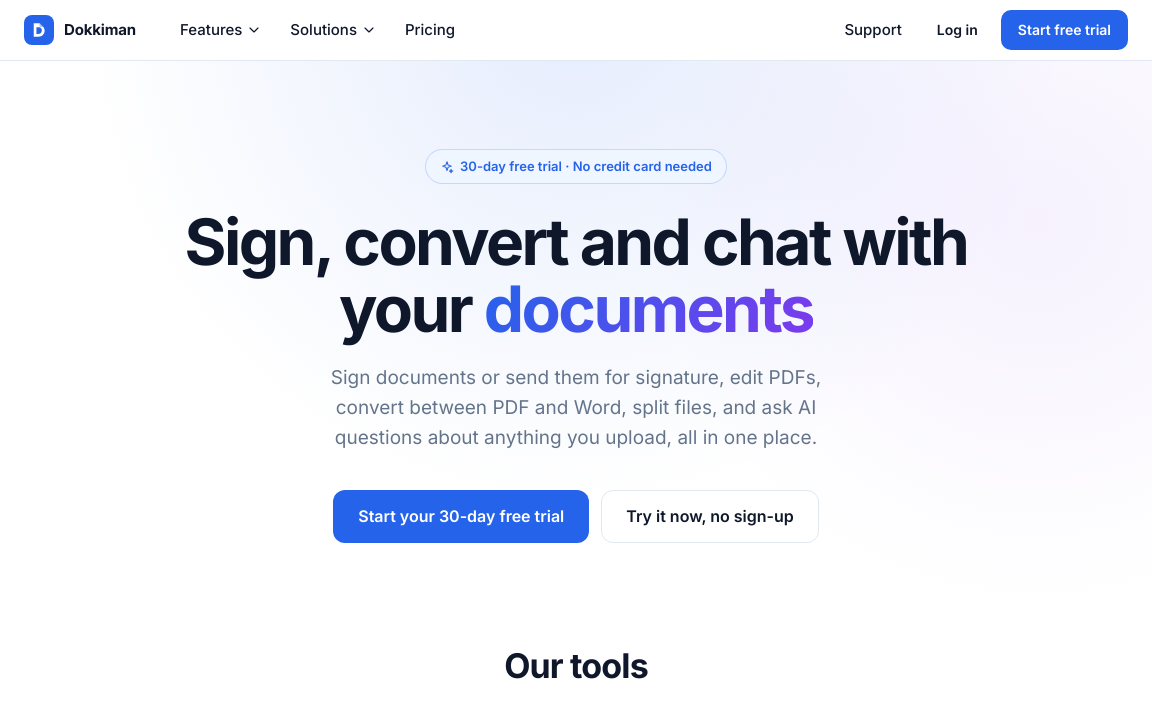
Test case: the Document Manager invites guests to create an account
Step 1. Click the button "Try it now, no sign-up" → (710, 516), box [601,490,819,543]
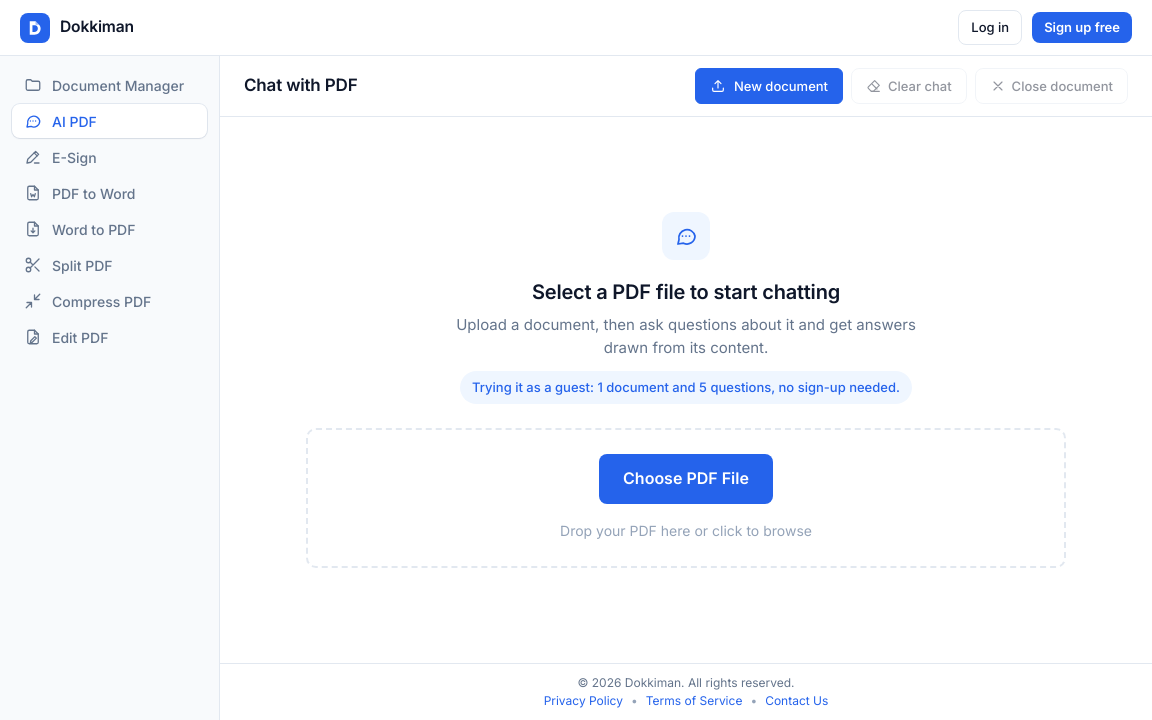
Step 2. Click the button "Document Manager" → (110, 85), box [12,68,207,102]
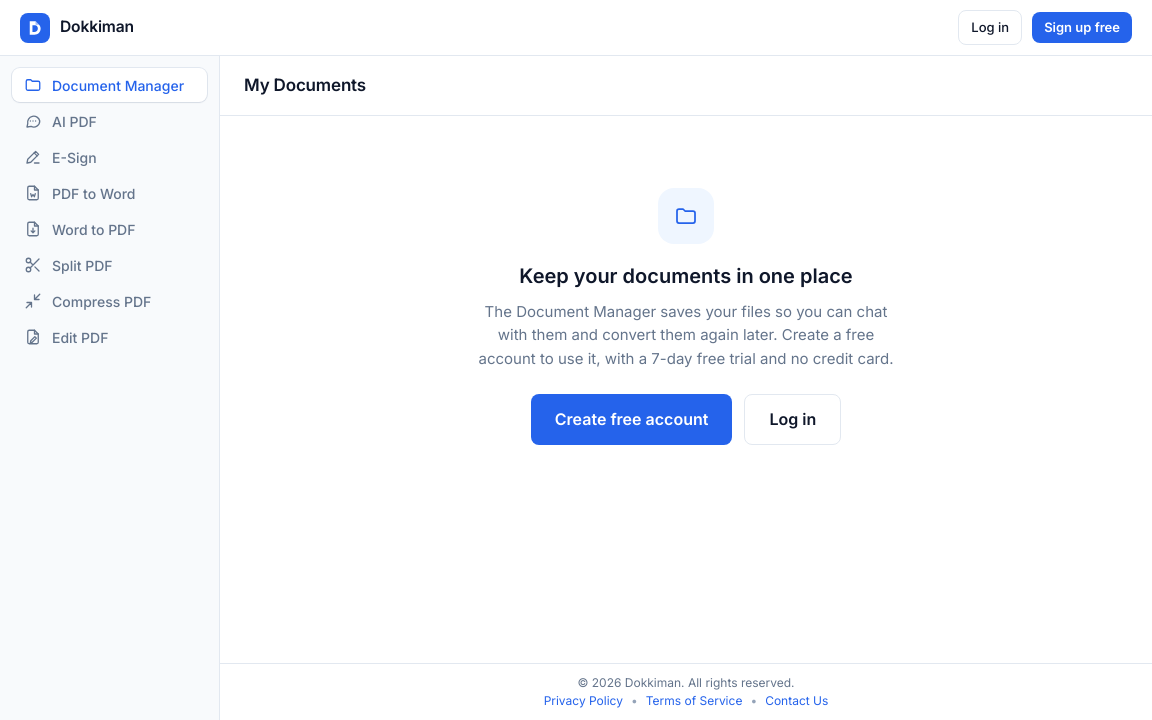
Expected: the heading "Keep your documents in one place" is shown, [519,264,853,288]
Step 3. Click the button "Create free account" → (632, 420), box [531,394,732,445]
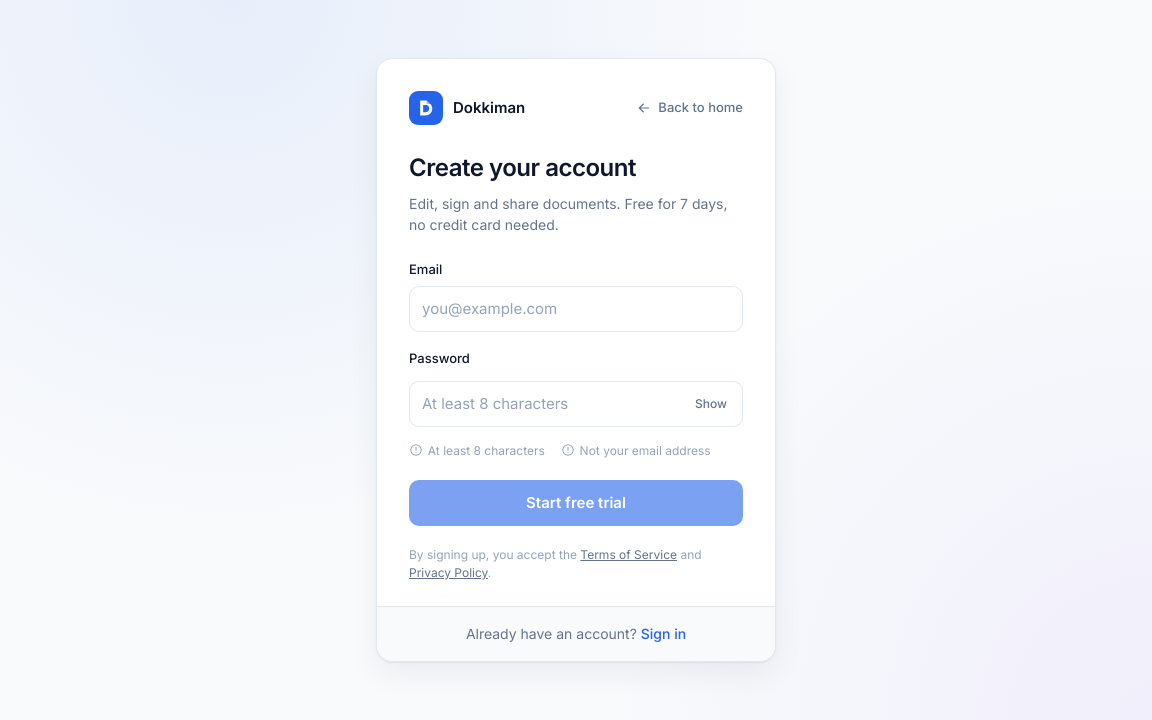
Expected: the heading "Create your account" is shown, [409,153,636,182]
